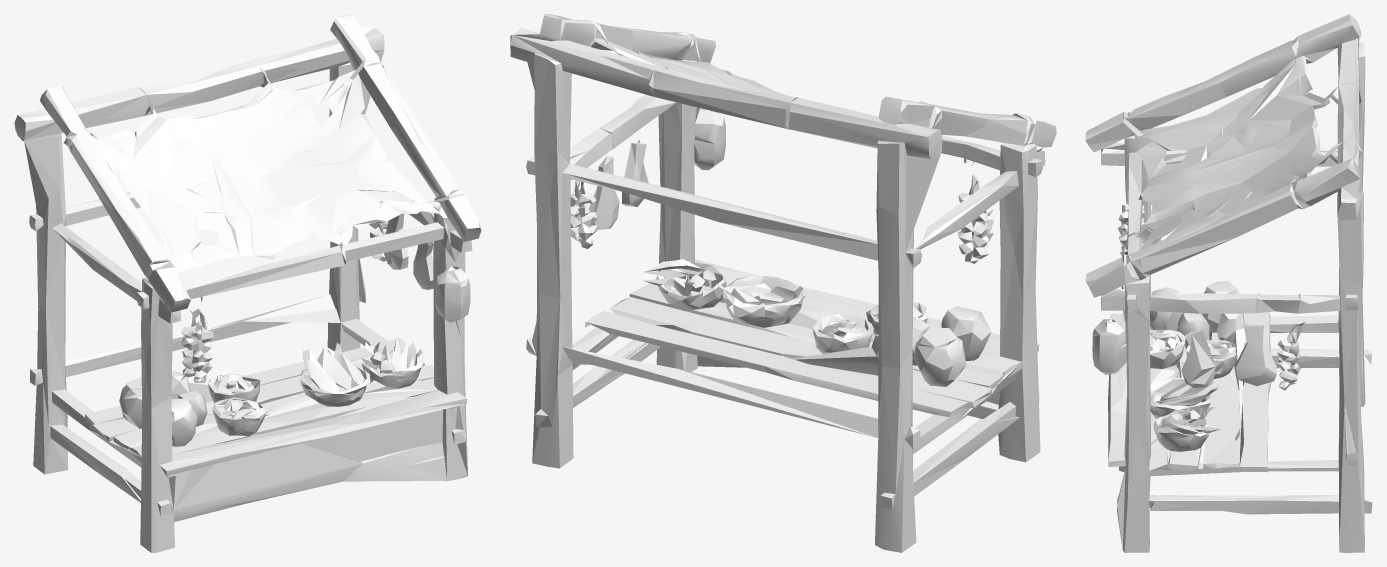
File: market_stall_hide.glb
The picture shows the model from 3 angles, left to right: view 1: azimuth 30°, elevation 25°; view 2: azimuth 150°, elevation 25°; view 3: azimuth 270°, elevation 25°; orthographic projection. The views are drawn at different scales.
Visible parts, largest first — view 1: market_stall_hide; view 2: market_stall_hide; view 3: market_stall_hide.
Boxes of the visible parts, x1,y1,x2,y2 form: market_stall_hide: (14, 14, 481, 552); market_stall_hide: (510, 14, 1056, 552); market_stall_hide: (1085, 14, 1372, 552).
Bounding box in the file's own units: 3.17 × 3.2 × 2.15.
Materials: 1 (1 with a texture image).
